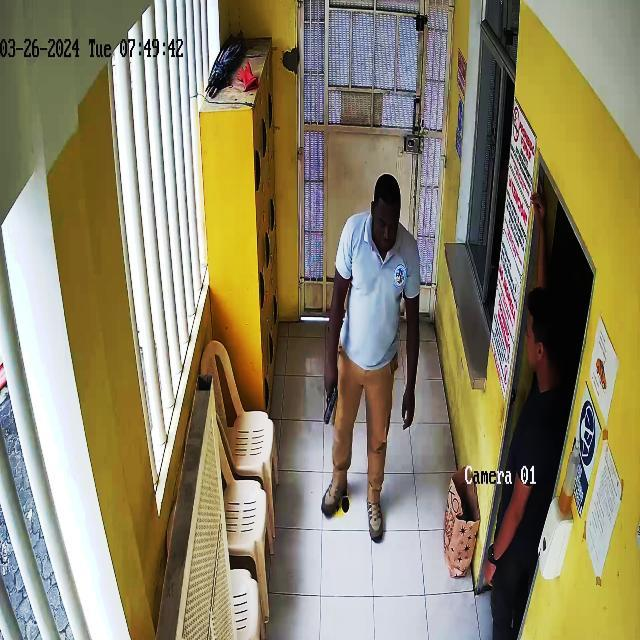Gun: (312, 373, 344, 429)
